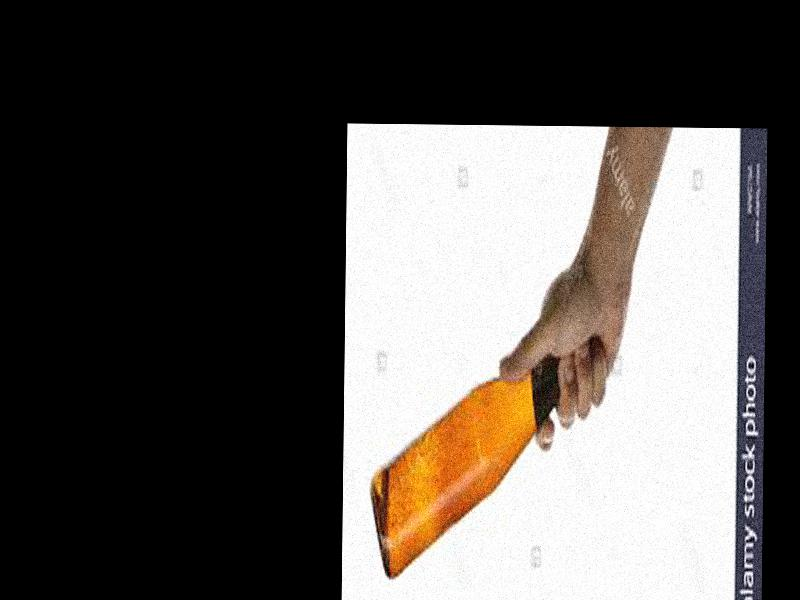Beer: (367, 338, 600, 581)
